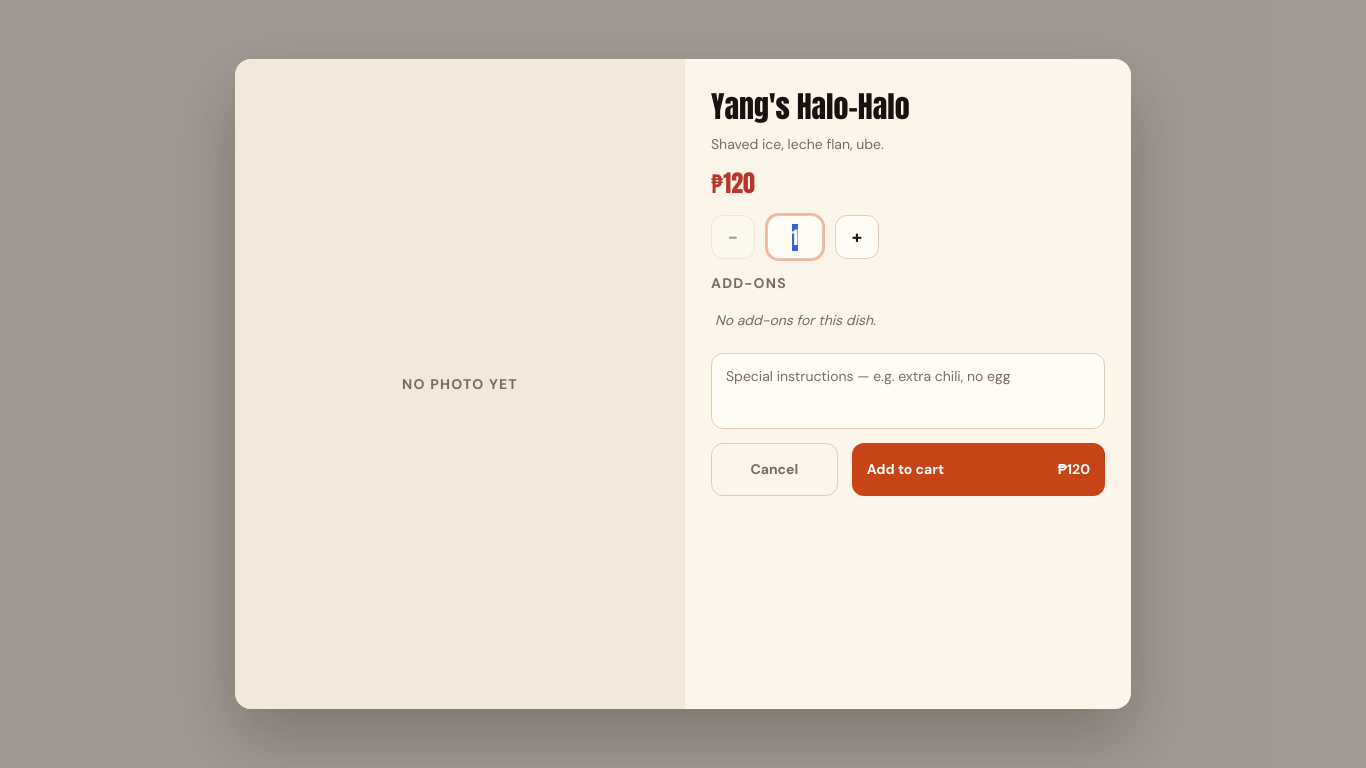
Test: item dialog limits › stops the stepper at what is left of the dish (13 in cart → 7)
Replace the text in the field named "Quantity" with "10" at (795, 237), box x1=767 y1=215 x2=823 y2=259
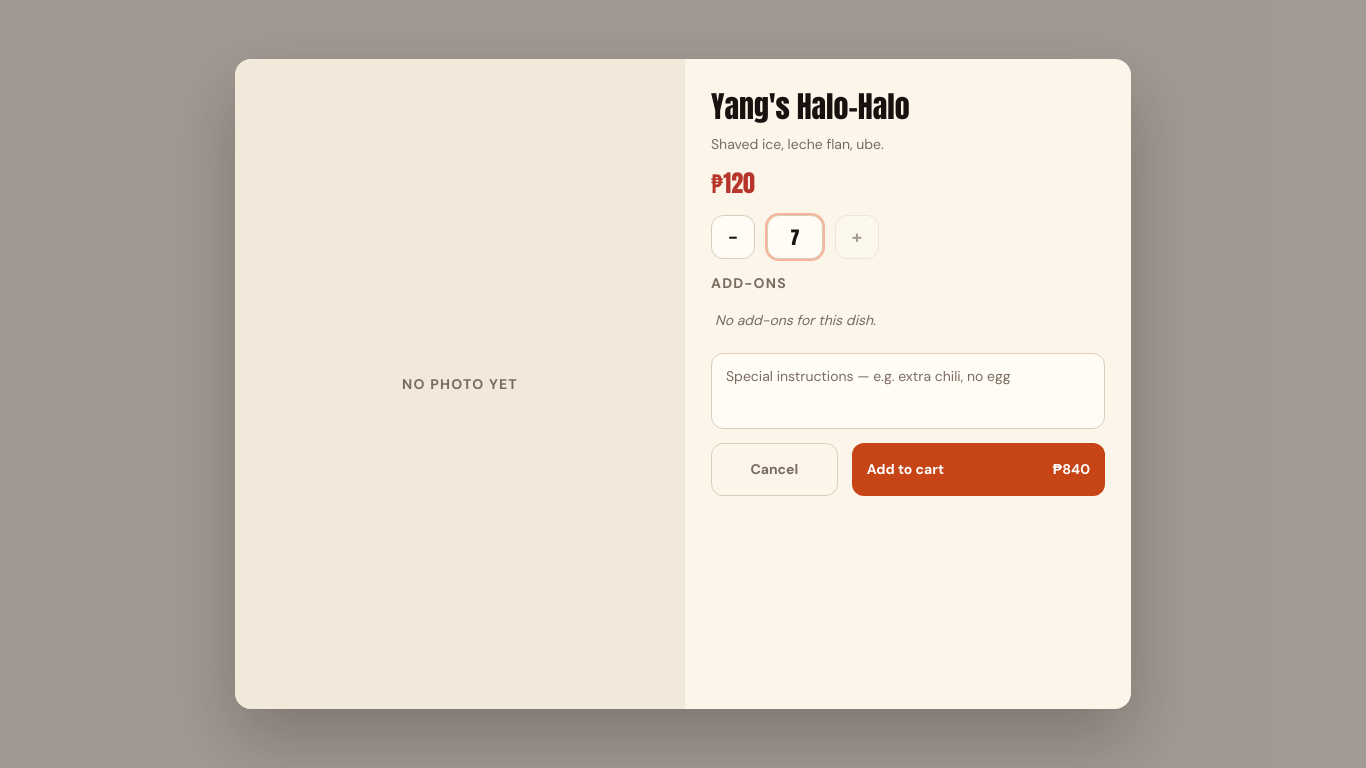
expect the field named "Quantity" holds "7": met, box x1=767 y1=215 x2=823 y2=259
expect the button named "Increase quantity" is disabled: met, box x1=835 y1=215 x2=879 y2=259
